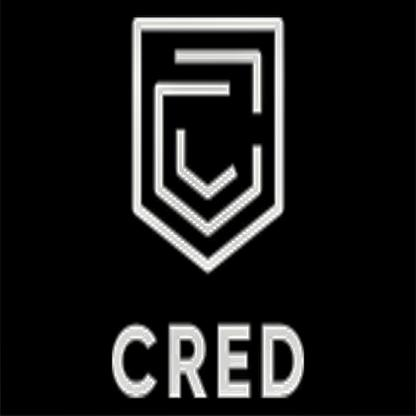CRED: (130, 15, 282, 277), (113, 323, 307, 402)
